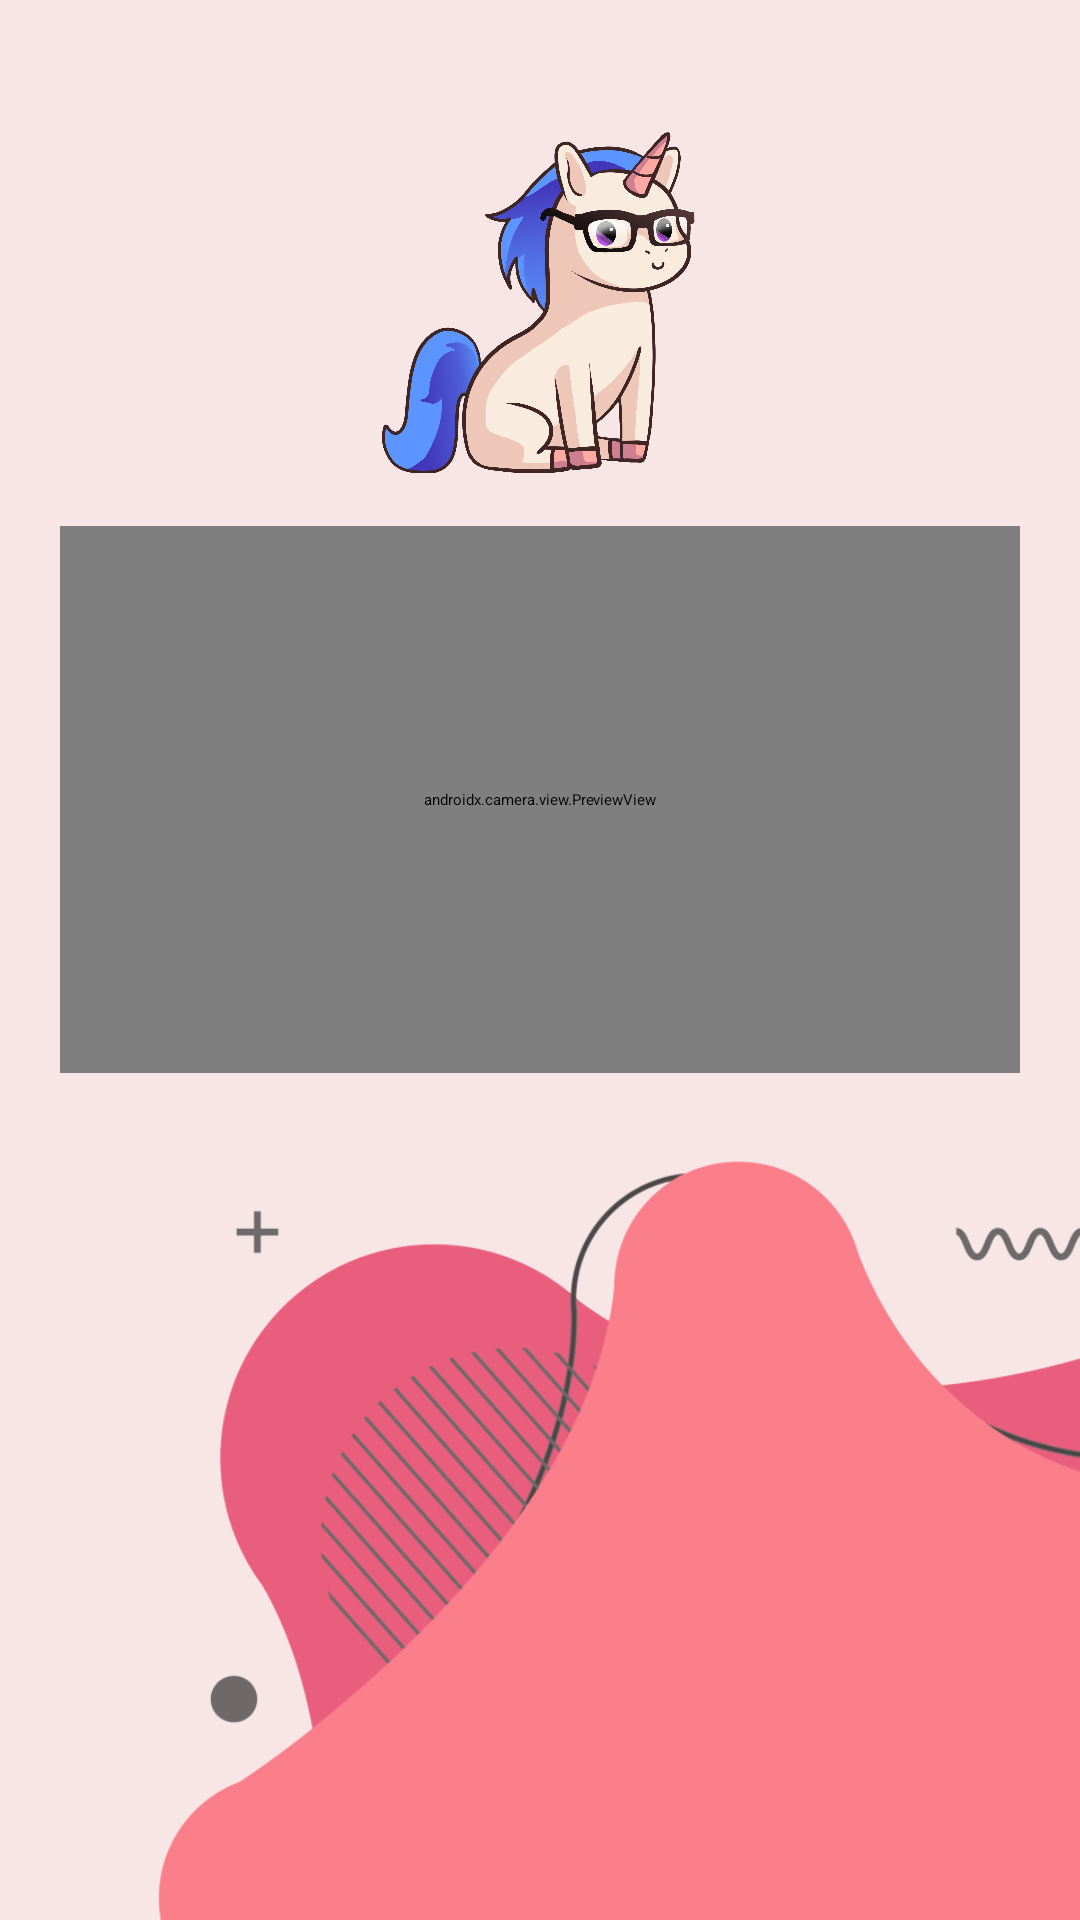

Icons on this 1080w x 1920h Android screen, each with its box as (x1, y1, x2, y2):
unicorno prova prof: (382, 132, 695, 473)
